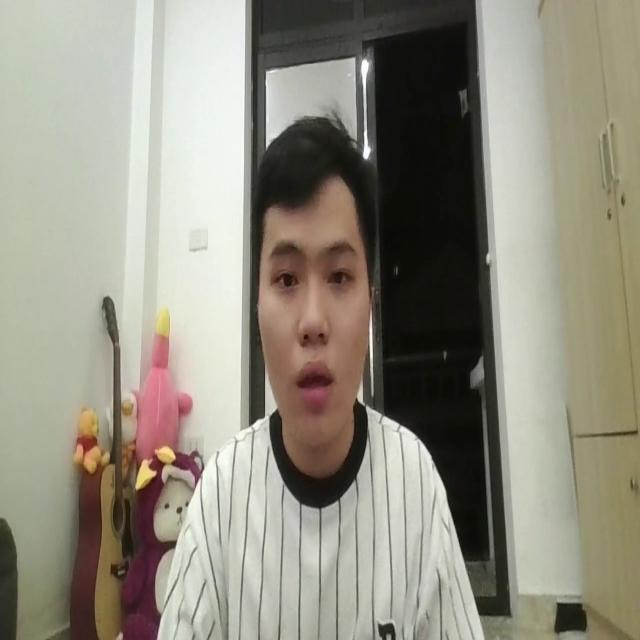student: (154, 113, 486, 640)
